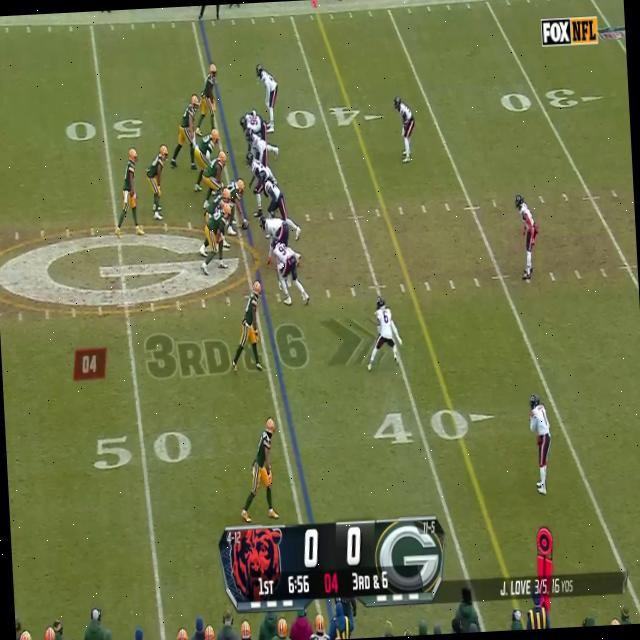Player: (243, 412, 280, 524), (235, 279, 266, 376), (528, 394, 556, 498), (114, 147, 146, 238), (271, 238, 310, 312), (197, 203, 235, 278), (370, 295, 401, 371), (514, 192, 540, 282), (173, 95, 200, 175), (146, 144, 173, 221), (254, 62, 280, 134), (392, 96, 417, 166), (197, 62, 220, 136), (200, 150, 228, 200), (246, 152, 265, 218), (262, 170, 288, 216), (194, 128, 222, 170), (258, 214, 292, 246), (228, 176, 248, 218), (238, 110, 269, 136), (244, 129, 268, 156)
